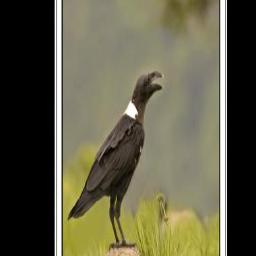Crow: (66, 68, 165, 251)
